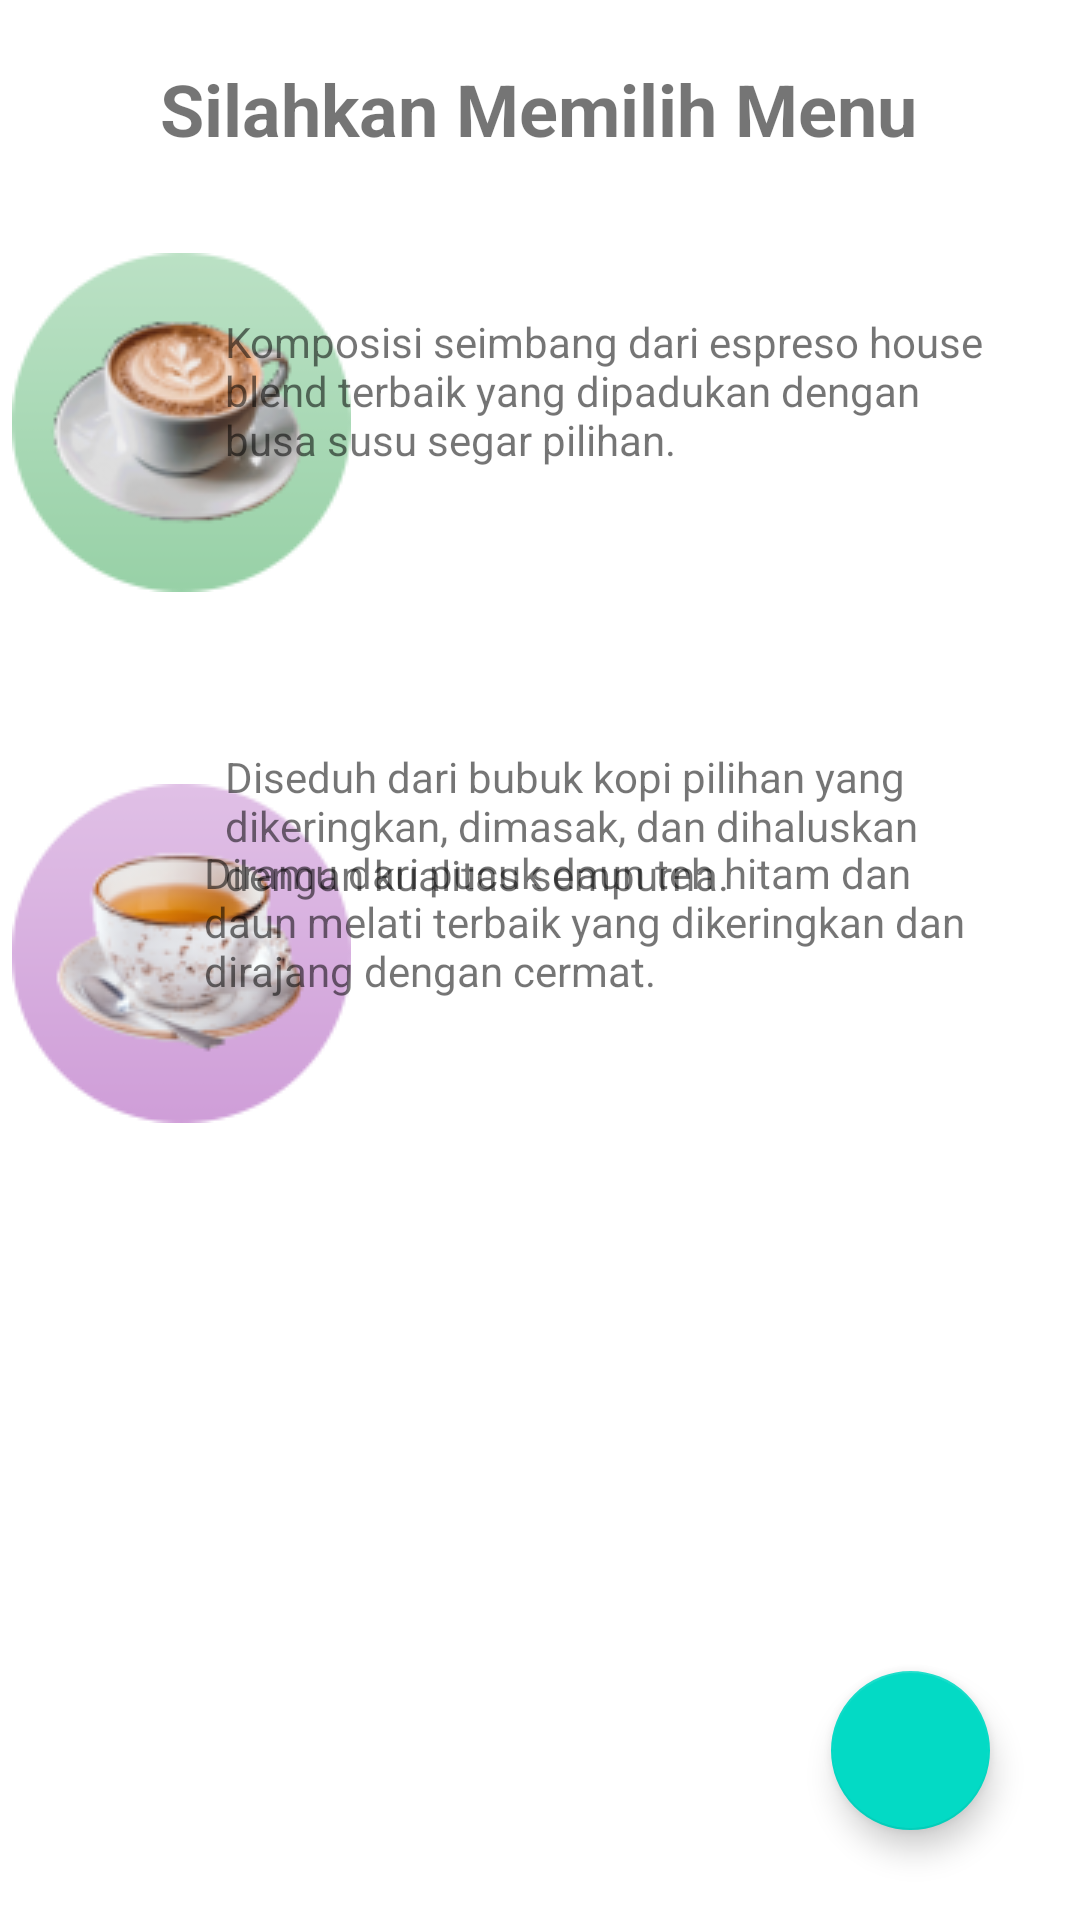

Locate icon controls on the screen. Image size 1080px×1920px, boxes as (x1,y1,x2,y2).
kapucino: (12,253,351,592)
